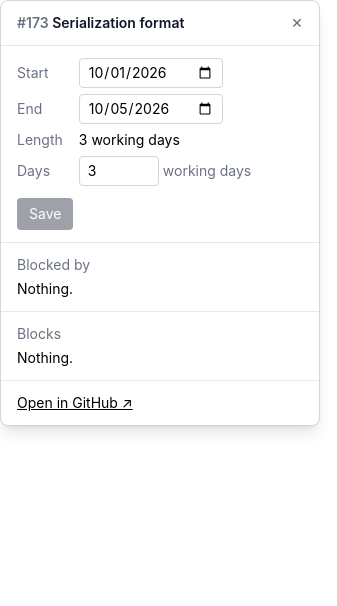
Test: TaskDetail › Days › offers each adjustment again after any of the three changes
In the date field with id "detail-start": (151, 73) top-left (79, 58), bottom-right (223, 88), type "2026-10-02"
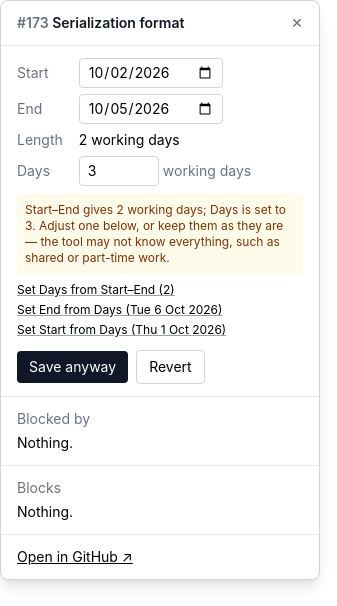
expect the button "Set Days from Start–End (2)" is shown: met, box top-left (17, 282), bottom-right (175, 298)
expect the button "Set End from Days (Tue 6 Oct 2026)" is shown: met, box top-left (17, 302), bottom-right (222, 318)
expect the button "Set Start from Days (Thu 1 Oct 2026)" is shown: met, box top-left (17, 322), bottom-right (226, 338)
